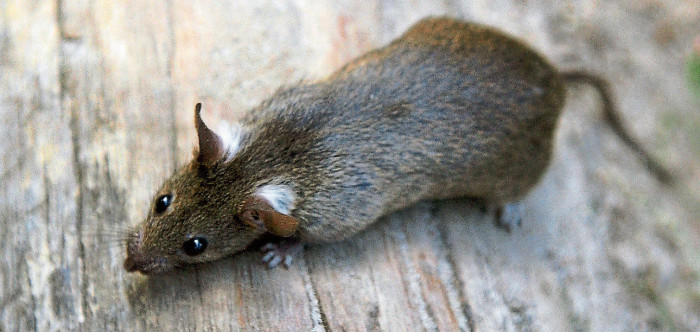rat: (107, 4, 579, 280)
